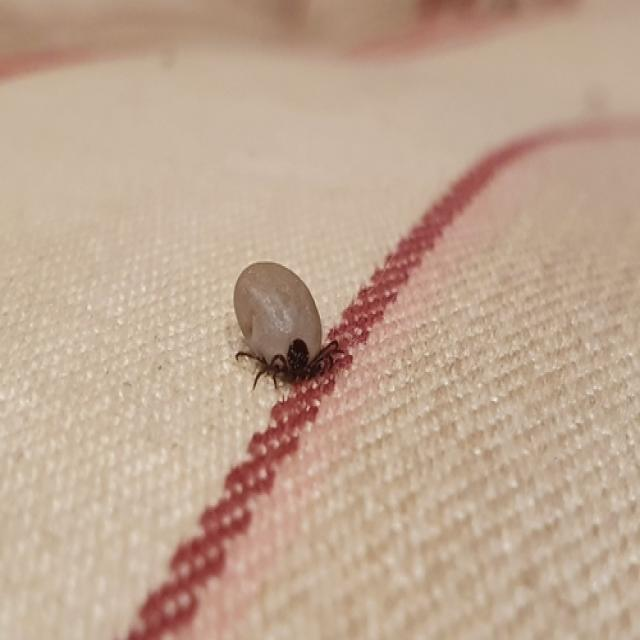Ixodes Ricinus-F-Fed: (233, 261, 343, 389)
